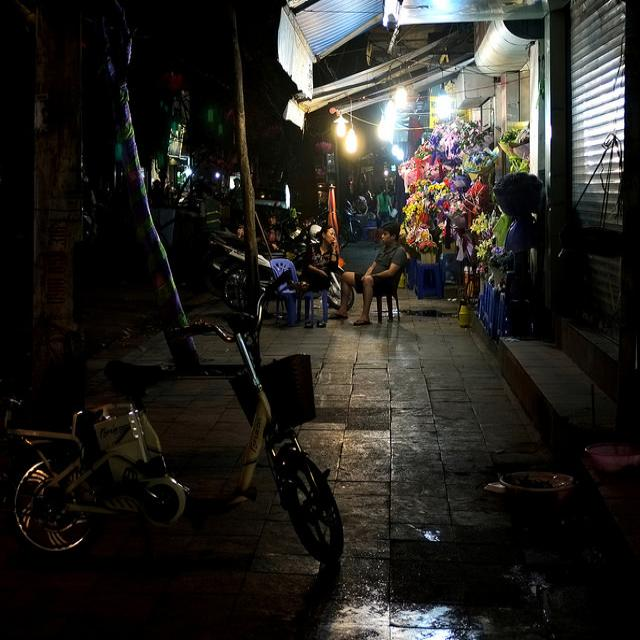Motorbike: (9, 338, 373, 635)
